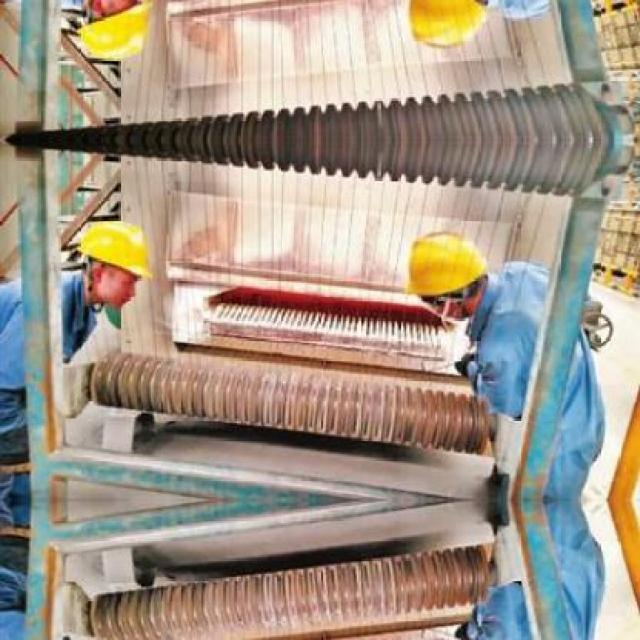helmet: (409, 233, 488, 296), (74, 1, 150, 62), (72, 220, 158, 260)
